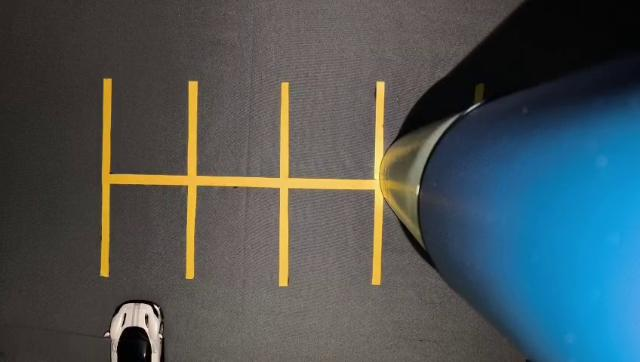toy_car: (89, 269, 188, 362)
